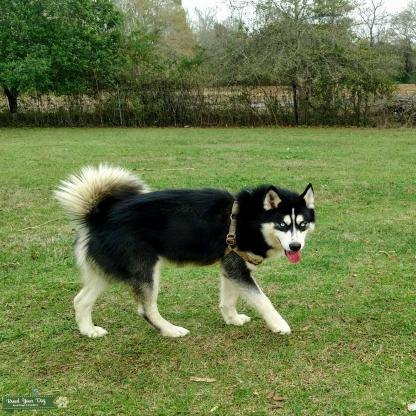husky: (52, 168, 316, 338)
